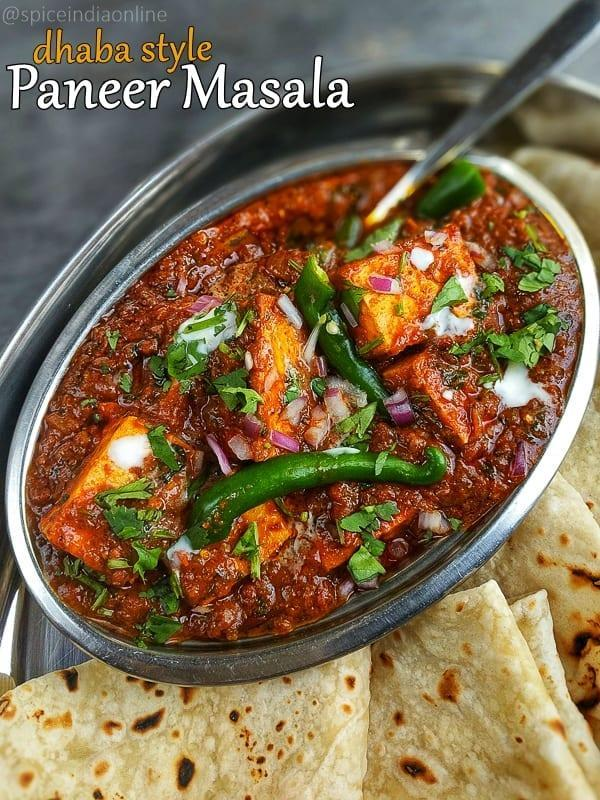paneer: (121, 333, 475, 554)
